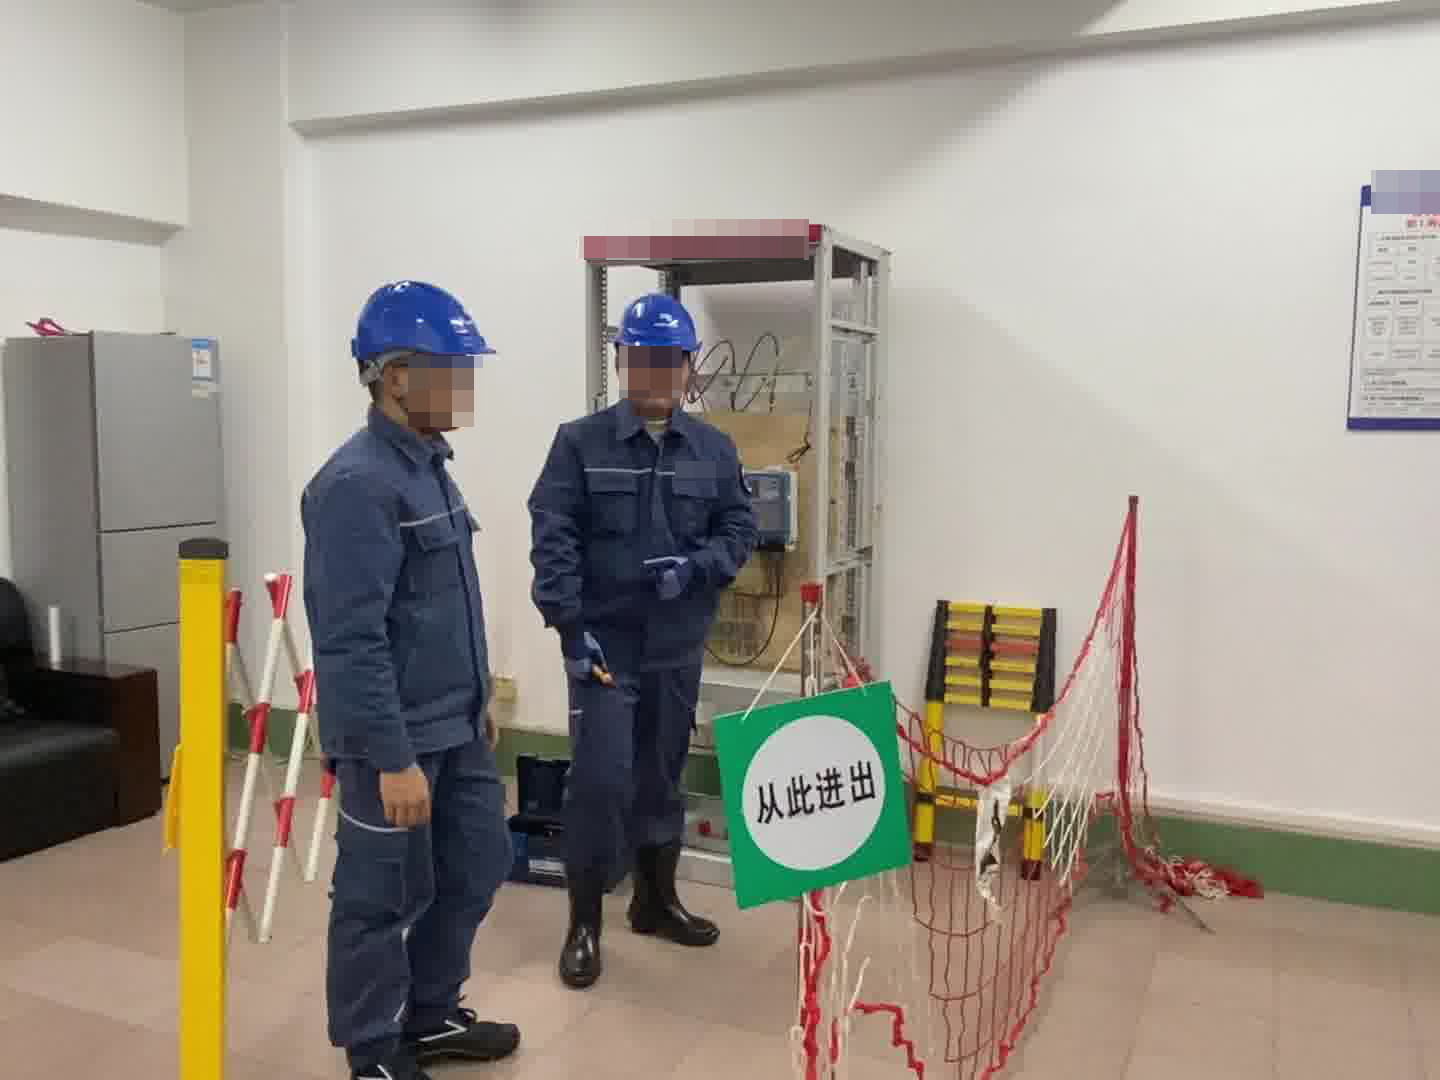downsuit: (322, 758, 512, 1051), (557, 678, 702, 924)
glove: (553, 617, 612, 683), (638, 552, 697, 598)
halt: (348, 281, 492, 436), (606, 290, 706, 415)
hand: (377, 758, 433, 830)
inear: (368, 352, 422, 407)
intosign: (708, 677, 925, 907)
person: (298, 276, 522, 1080), (529, 290, 760, 985)
shoe: (559, 839, 723, 986)
upsuit: (303, 422, 491, 756), (535, 406, 757, 661)
